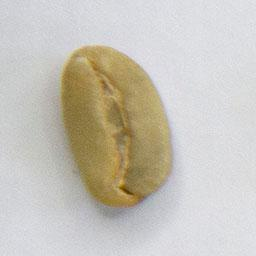longberry: (58, 41, 177, 209)
